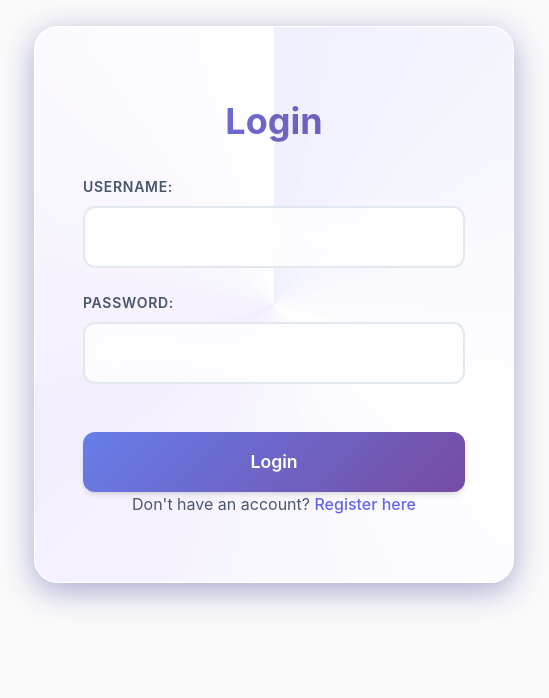
Test: Auth Component › switches to register form when "Register here" link is clicked
Step 1. Click the text "Register here" → (365, 504), box [314,494,416,514]
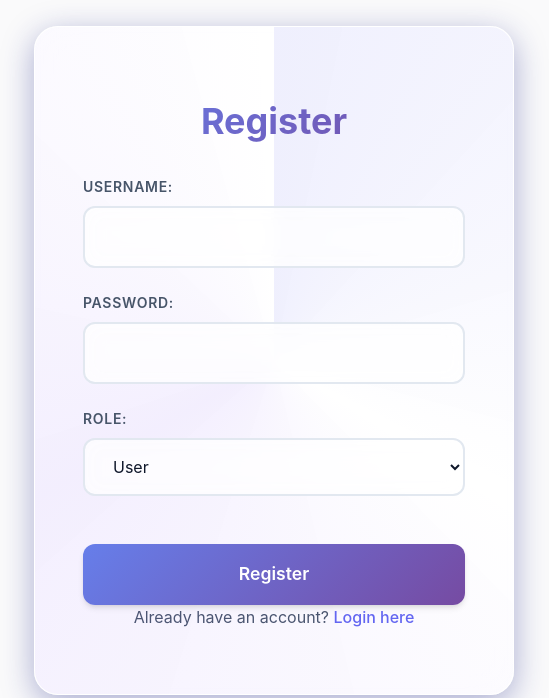
Result: the heading "Register" is shown at [83,99,465,144]
Result: the dropdown labelled "Role:" is shown at [83,438,465,496]
Result: the button "Register" is shown at [83,544,465,604]
